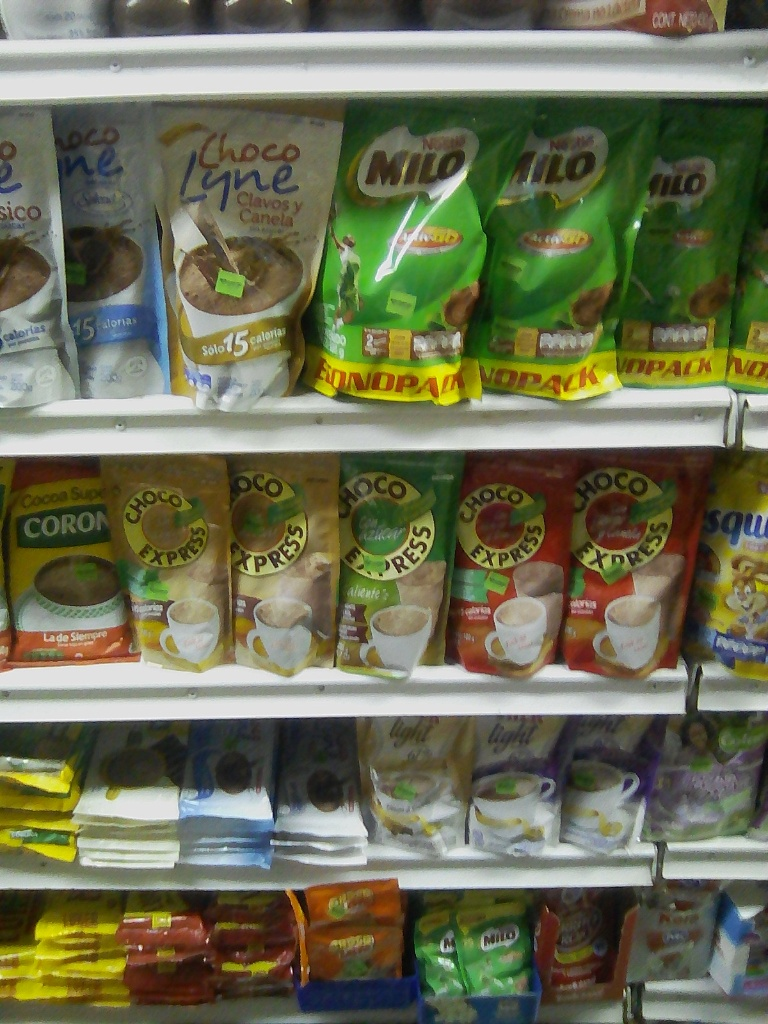COL0170103SOB02000: (309, 926, 408, 990)
